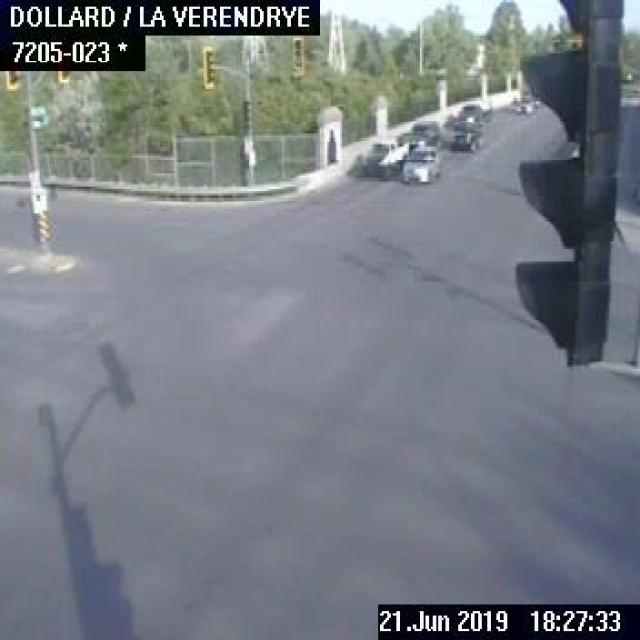vehicle: (358, 134, 408, 173), (400, 144, 440, 182), (402, 117, 444, 149), (452, 98, 493, 125), (449, 119, 480, 152), (511, 94, 538, 115)
